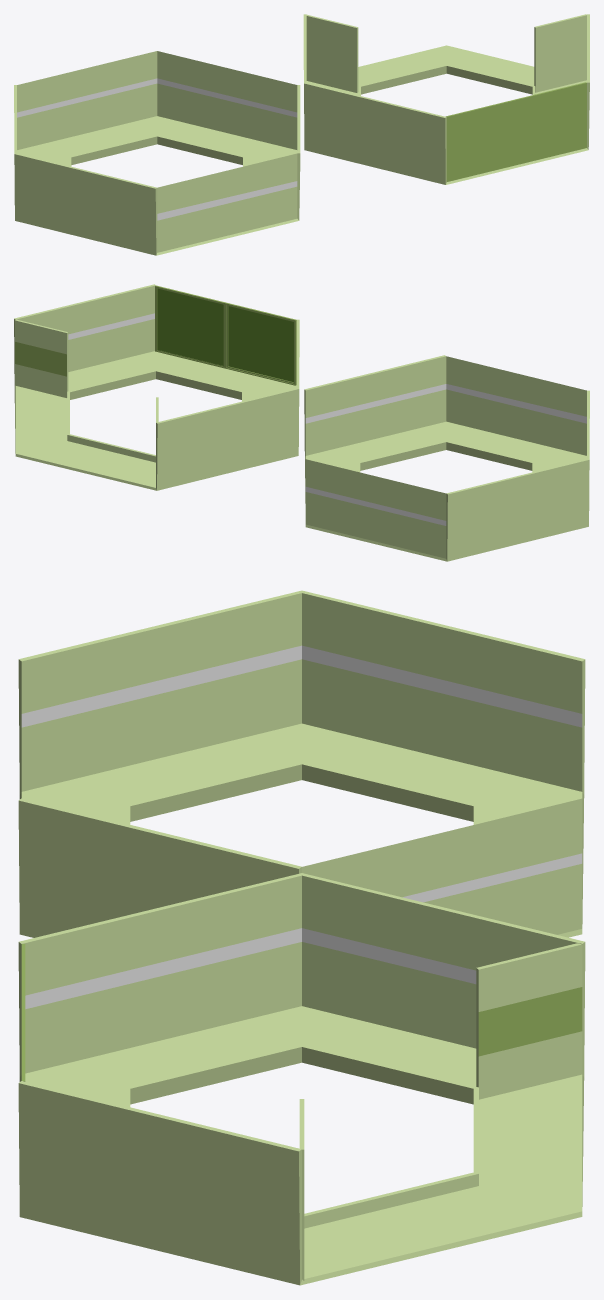
Rendered from sector9.fbx.
3 renders of one model, top to bottom at view 1: azimuth 30°, elevation 25°; view 2: azimuth 150°, elevation 25°; view 3: azimuth 270°, elevation 25°, orthographic. The views are drawn at different scales.
Parts seen in each view (by area): view 1: Circle.002, Circle, doorLeft, doorRight, lockDownDoor.001, lockDownDoor; view 2: Circle.002, Circle, doorLeft, doorRight, lockDownDoor; view 3: Circle, Circle.002, lockDownDoor.001.
Boxes of the visible parts, x1,y1,x2,y2 form: Circle.002: (14,51,300,255); Circle: (303,14,589,184); doorLeft: (446,99,516,181); doorRight: (516,82,586,164); lockDownDoor.001: (306,14,358,92); lockDownDoor: (534,14,586,92); Circle.002: (304,355,589,561); Circle: (14,284,299,490); doorLeft: (225,302,296,385); doorRight: (155,285,225,368); lockDownDoor: (15,319,68,397); Circle: (18,873,585,1285); Circle.002: (18,590,585,937); lockDownDoor.001: (476,943,582,1099).
Bounding box in the file's own units: 14369 × 1625 × 6136.
